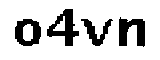4: (45, 6, 81, 49)
n: (116, 14, 149, 51)
o: (11, 17, 42, 48)
v: (79, 14, 112, 49)
